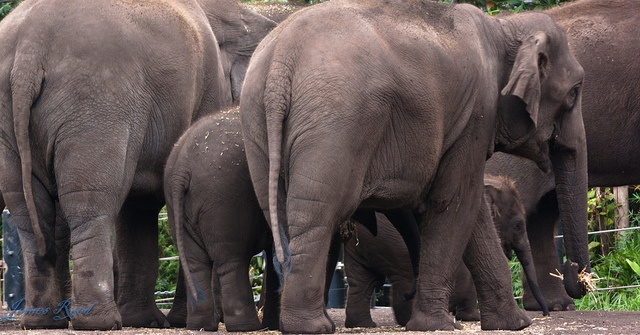elephant: (239, 0, 591, 332), (1, 0, 225, 330)
